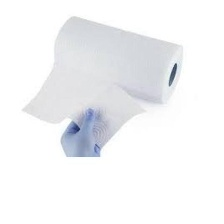tissue: (16, 10, 188, 154)
